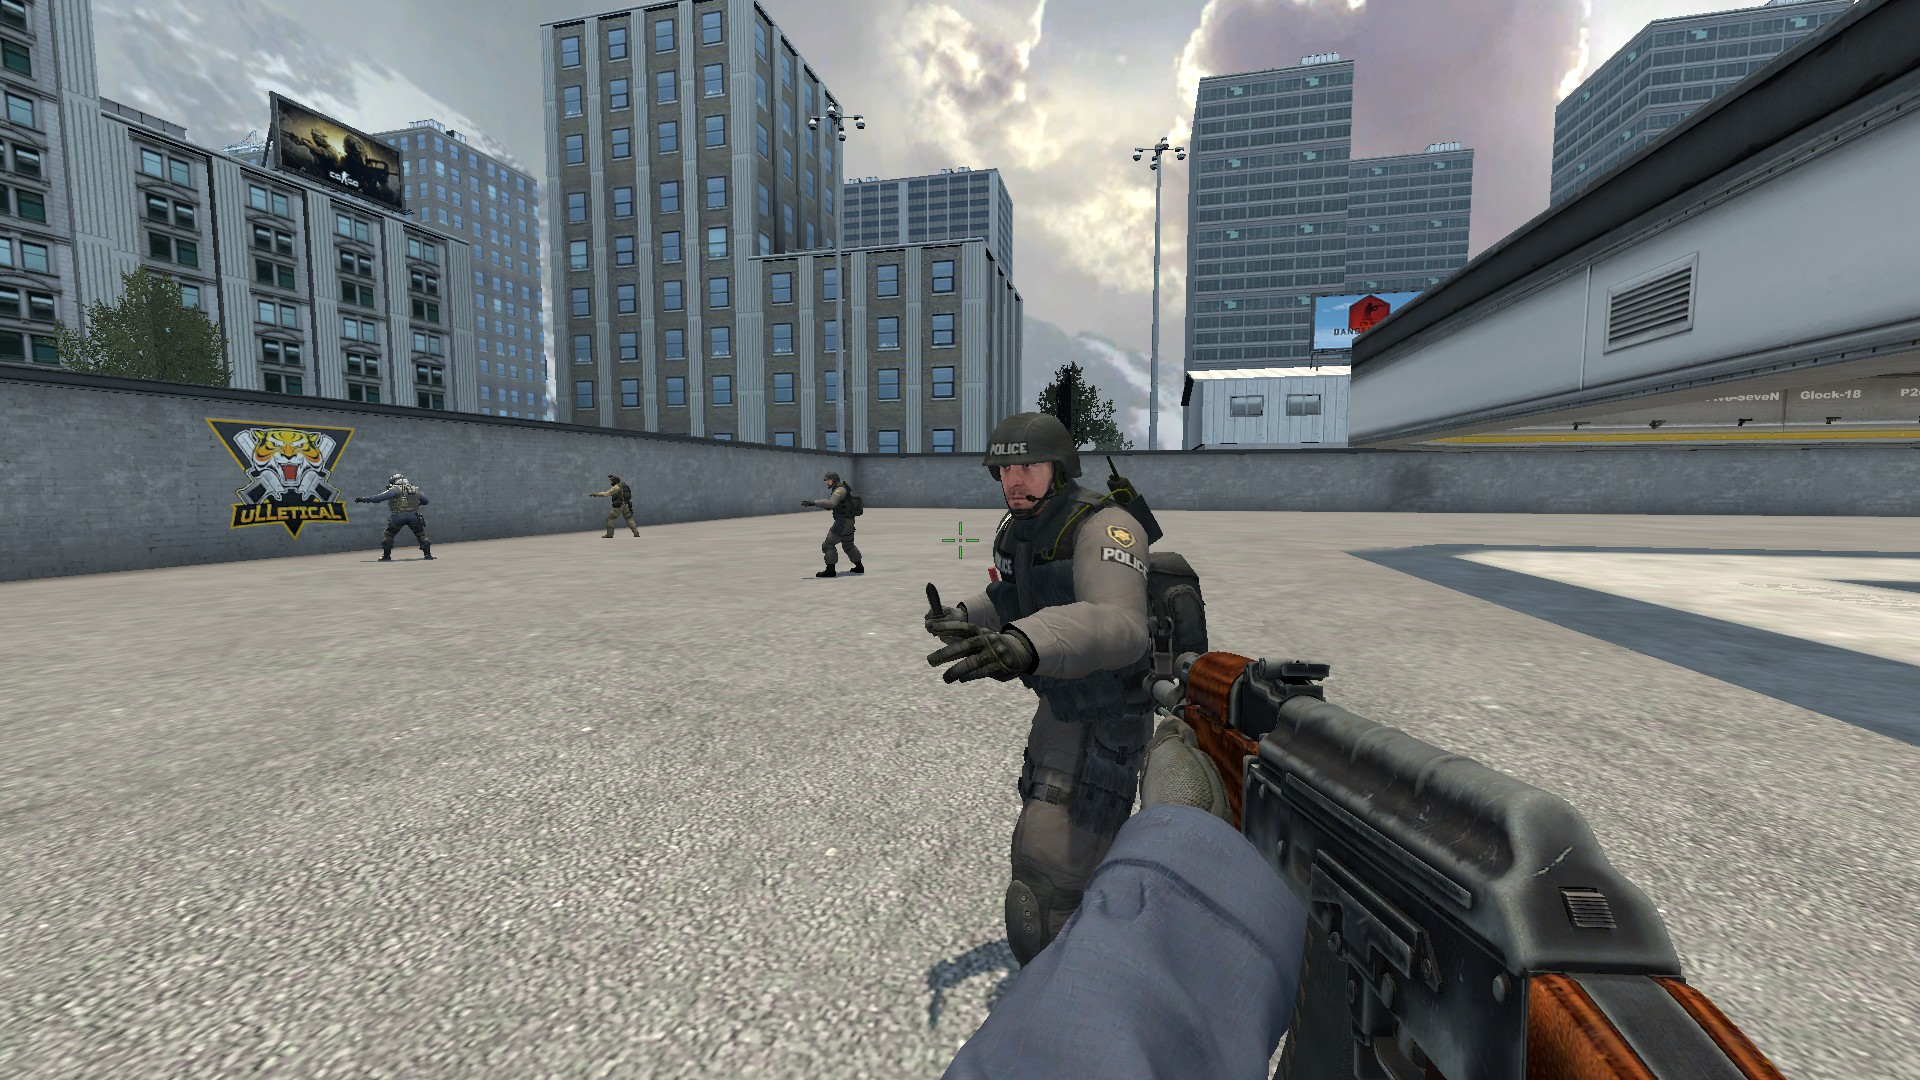ct: (918, 410, 1213, 973), (800, 469, 872, 579)
ct head: (978, 409, 1087, 527), (818, 469, 845, 495)
